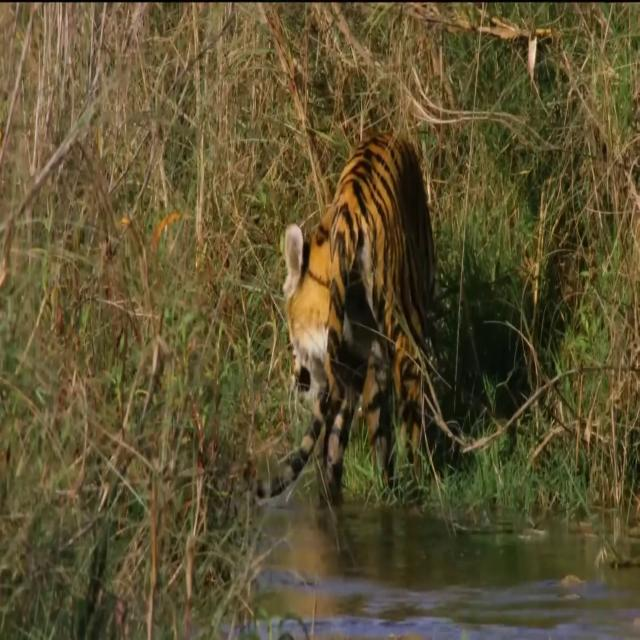tiger: (245, 123, 438, 502)
